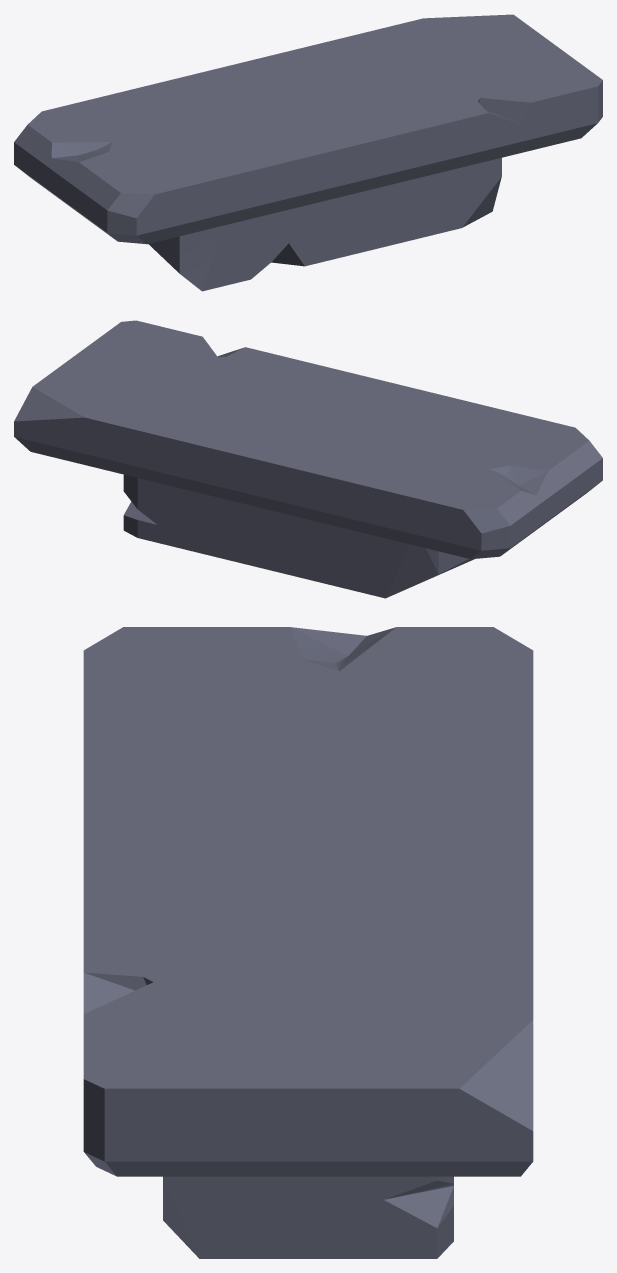
File: Stone_Bench.fbx
The picture shows the model from 3 angles, top to bottom: view 1: azimuth 30°, elevation 25°; view 2: azimuth 150°, elevation 25°; view 3: azimuth 270°, elevation 25°; orthographic projection. The views are drawn at different scales.
Visible parts, largest first — view 1: 1-Bench; view 2: 1-Bench; view 3: 1-Bench.
Part boxes in pixels (bbox=[...]): 1-Bench: bbox=[14, 14, 602, 291]; 1-Bench: bbox=[14, 320, 602, 598]; 1-Bench: bbox=[83, 627, 533, 1258].
Bounding box in the file's own units: 1.64 × 0.6552 × 0.4082.
